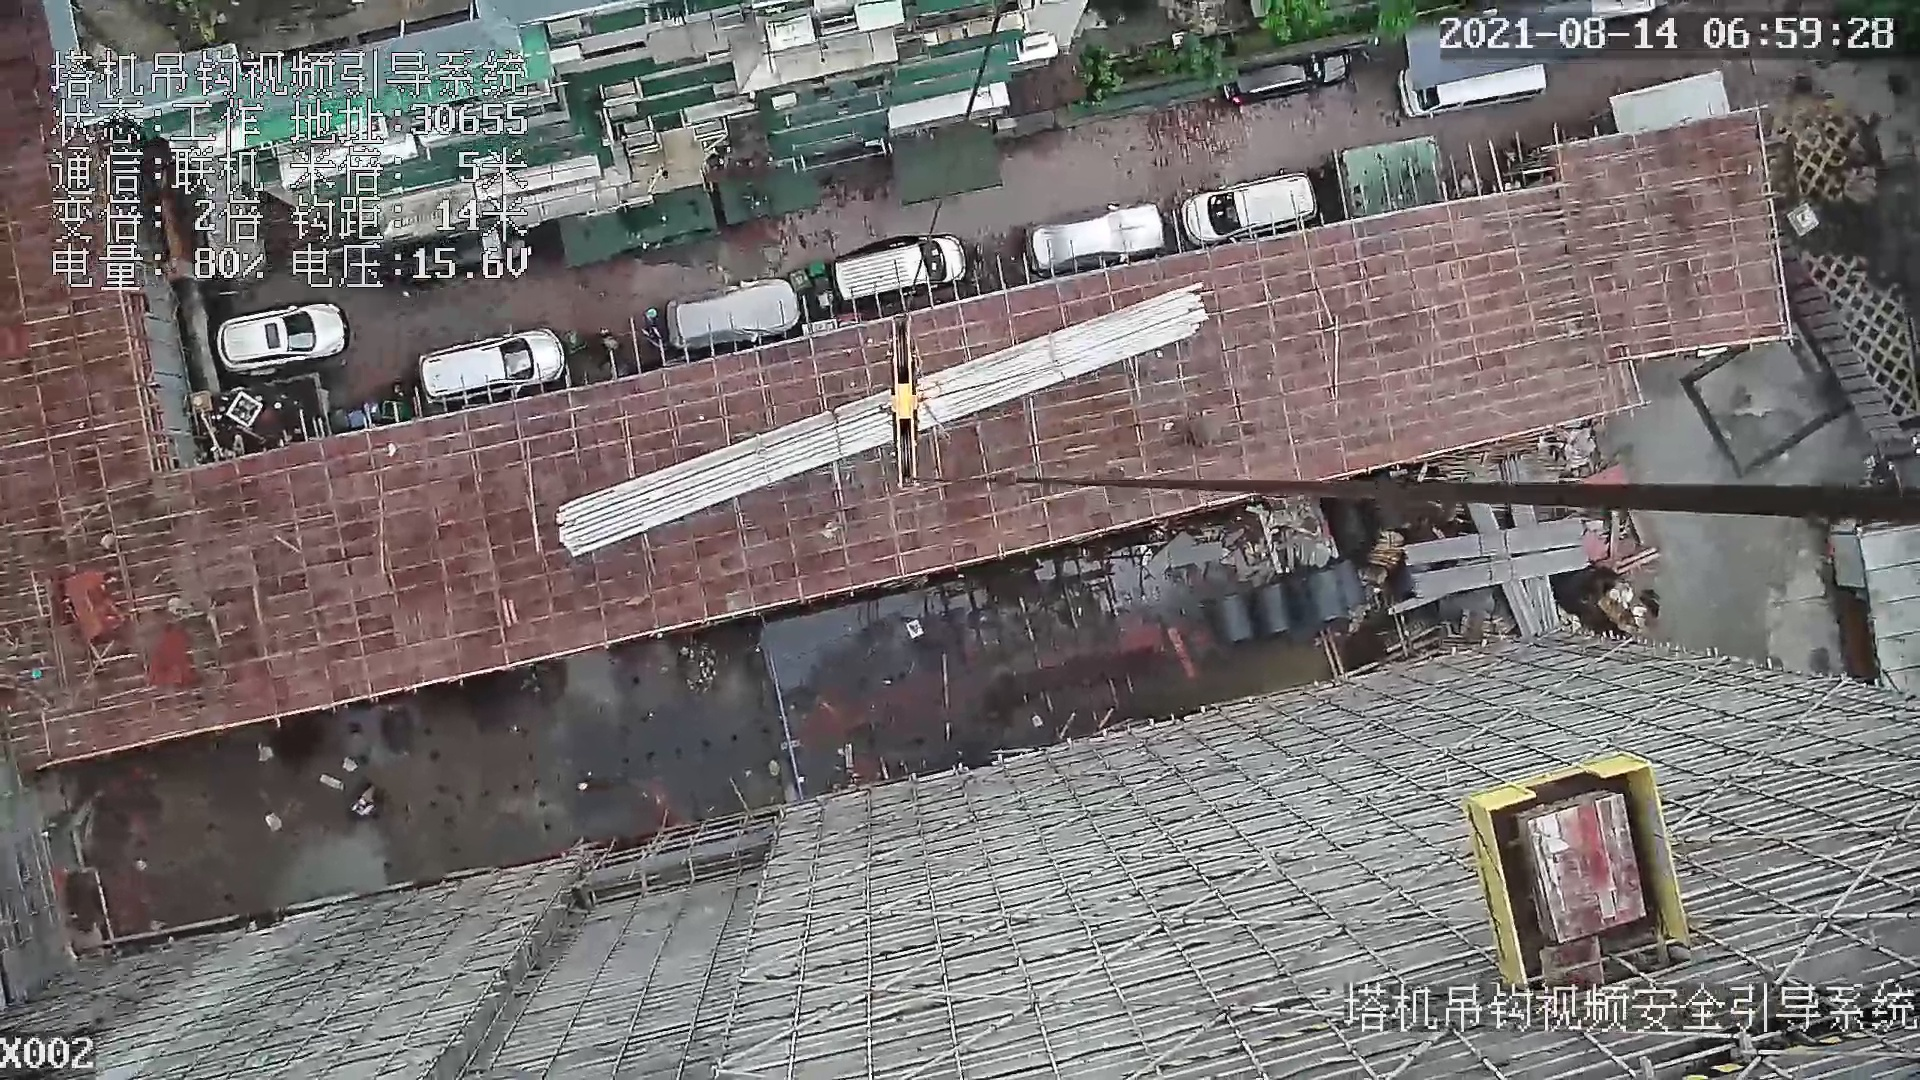board: (1509, 789, 1644, 945)
hook: (880, 309, 945, 491)
rebar: (556, 284, 1212, 560), (1468, 501, 1542, 634), (1408, 547, 1586, 599), (1404, 518, 1584, 564), (1511, 502, 1561, 632)
wood: (1367, 530, 1403, 567)
